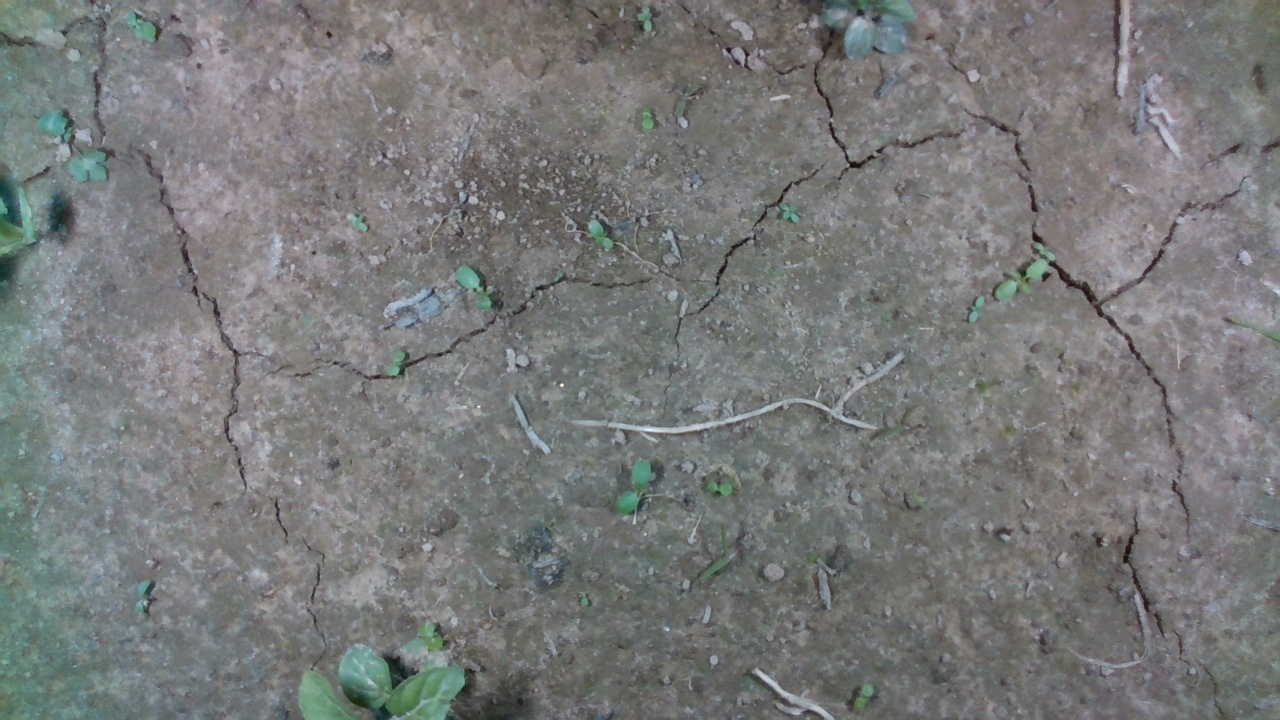weed: (450, 262, 513, 316), (621, 456, 661, 519), (378, 343, 425, 390), (584, 218, 626, 254), (700, 467, 738, 493), (966, 291, 991, 328), (774, 199, 808, 226), (633, 104, 663, 131), (349, 213, 374, 241)
